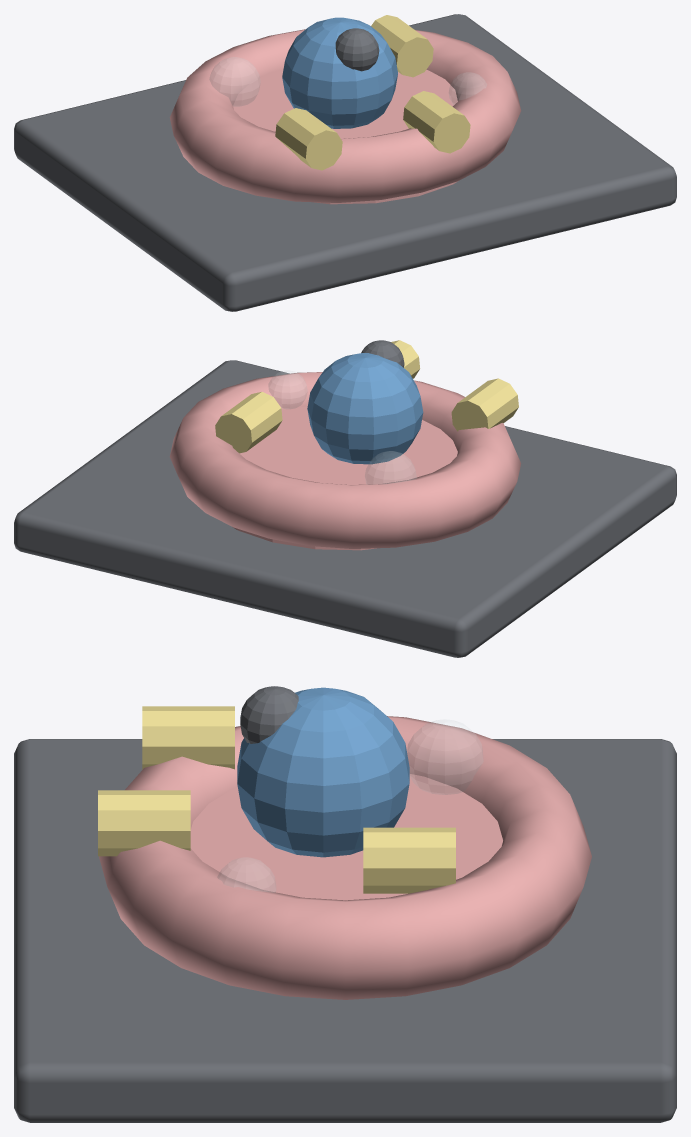
Rendered from cell.glb.
3 views of the same model, one above another, from view 1: azimuth 30°, elevation 25°; view 2: azimuth 150°, elevation 25°; view 3: azimuth 270°, elevation 25° (orthographic). The views are drawn at different scales.
Parts seen in each view (by area): view 1: cell-model; view 2: cell-model; view 3: cell-model.
Boxes of the visible parts, box(x1,y1,x2,y2) form: cell-model: box(14, 14, 676, 311); cell-model: box(14, 340, 676, 657); cell-model: box(14, 686, 676, 1122).
Size of the model in its own units: 0.36 by 0.131 by 0.3.
